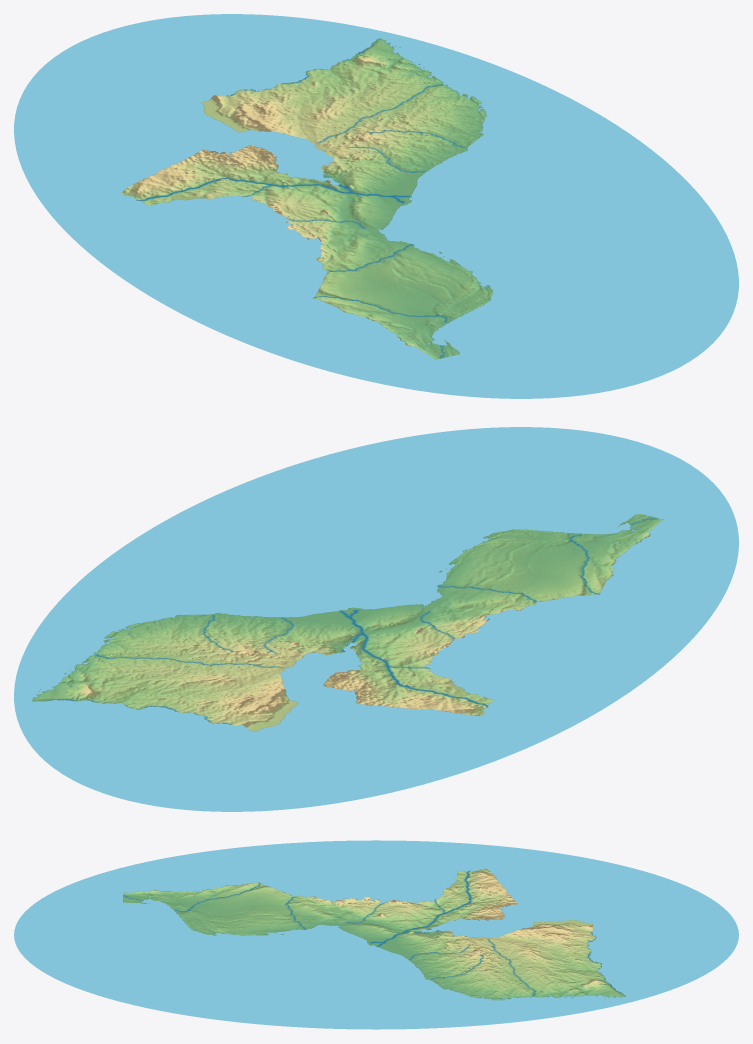
File: MOZ-terrain.glb
The picture shows the model from 3 angles, top to bottom: view 1: azimuth 30°, elevation 25°; view 2: azimuth 150°, elevation 25°; view 3: azimuth 270°, elevation 25°; orthographic projection. The views are drawn at different scales.
Visible parts, largest first — view 1: Relevo com hidrografia; view 2: Relevo com hidrografia; view 3: Relevo com hidrografia.
Boxes of the visible parts, x1,y1,x2,y2 form: Relevo com hidrografia: (14,14,738,398); Relevo com hidrografia: (14,427,738,811); Relevo com hidrografia: (14,840,738,1029).
Size of the model in its own units: 1.43 by 0.021 by 2.32.
2 materials, 1 textured.
